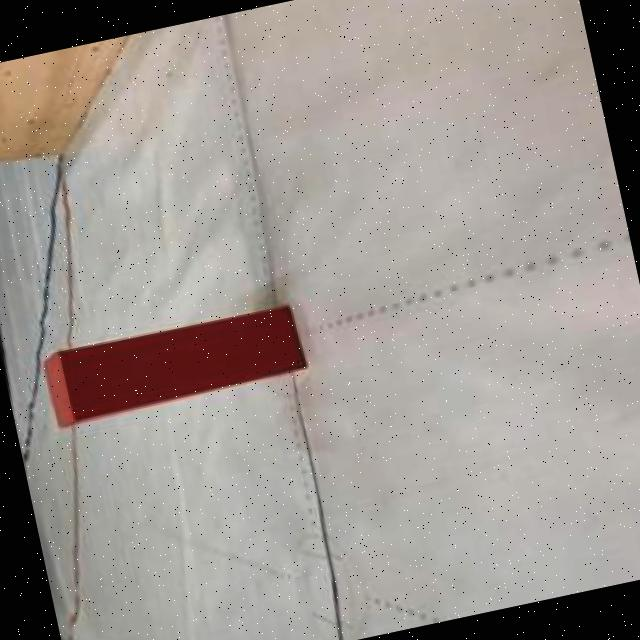redbox: (36, 296, 313, 431)
